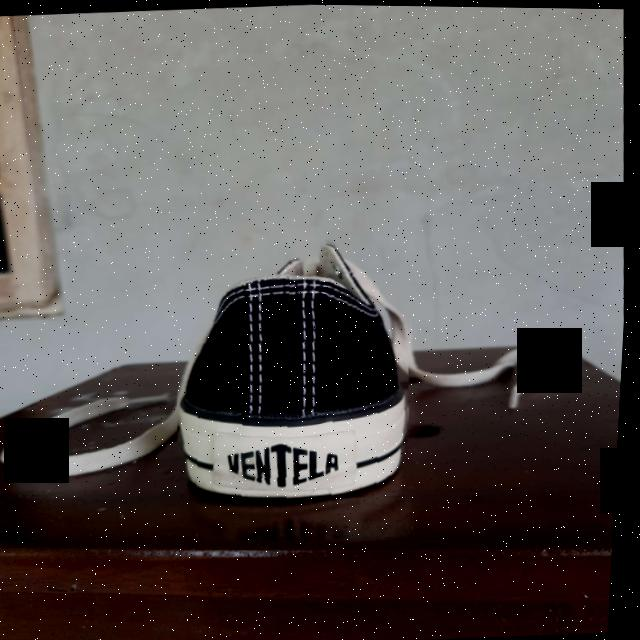shoe: (170, 230, 427, 507)
